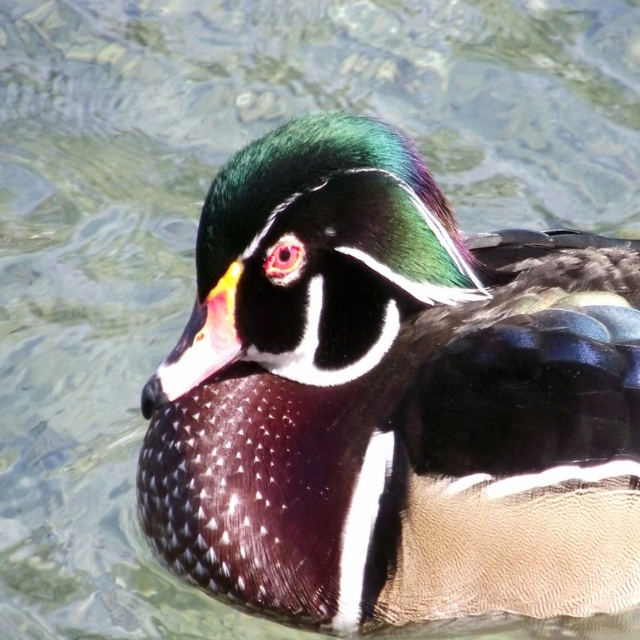Duck: (147, 106, 640, 637)
